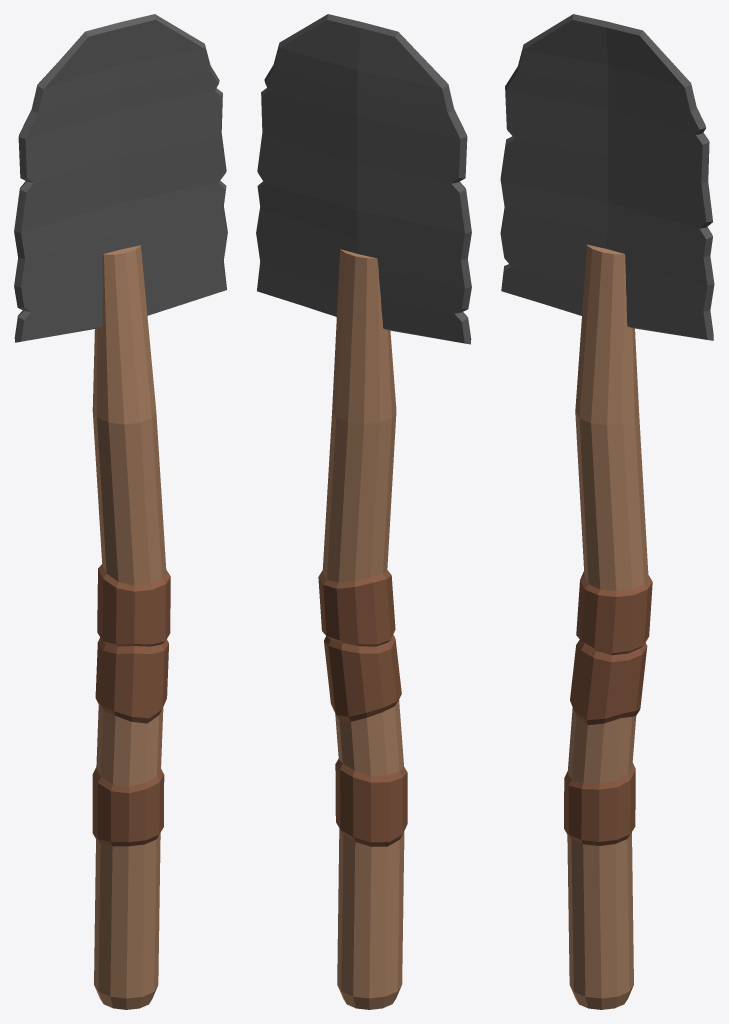
Rendered from Stone Shovel.fbx.
The picture shows the model from 3 angles, left to right: view 1: azimuth 30°, elevation 25°; view 2: azimuth 150°, elevation 25°; view 3: azimuth 330°, elevation 25°; orthographic projection.
Visible parts, largest first — view 1: Stone Shovel; view 2: Stone Shovel; view 3: Stone Shovel.
Part boxes in pixels (x1,y1,x2,y2): Stone Shovel: (14, 14, 227, 1009); Stone Shovel: (256, 14, 471, 1009); Stone Shovel: (500, 14, 714, 1009).
Size of the model in its own units: 27.71 by 120 by 9.37.
